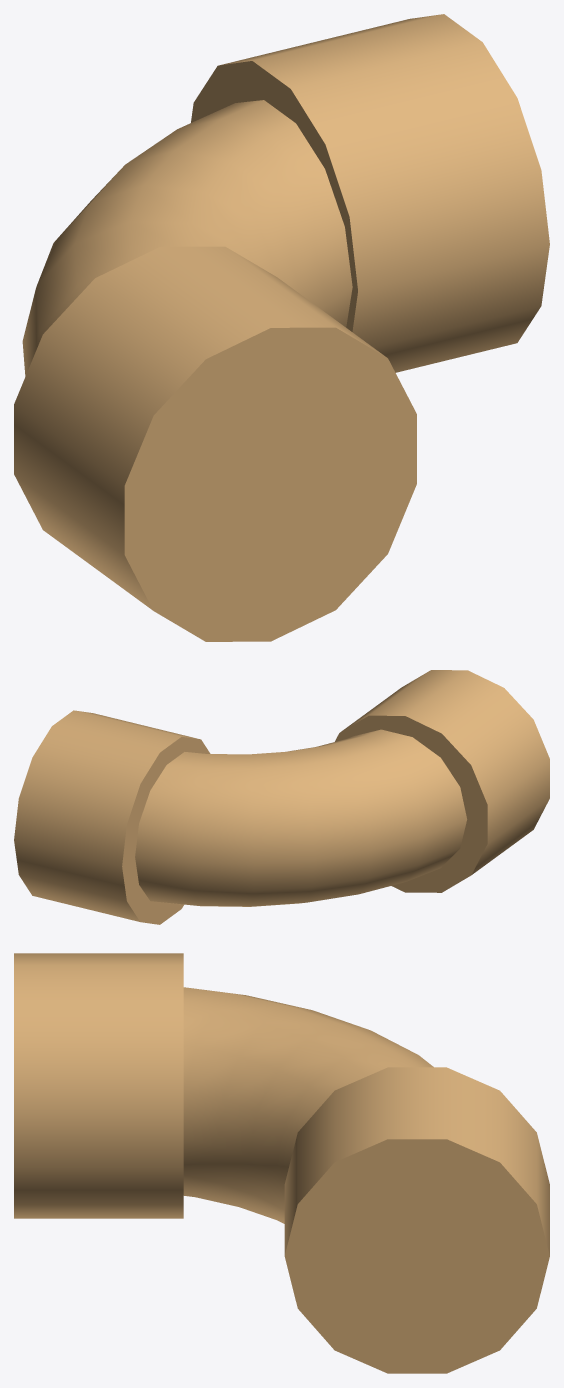
The model's file is services.pipe.elbow_35.glb.
3 renders of one model, top to bottom at view 1: azimuth 30°, elevation 25°; view 2: azimuth 150°, elevation 25°; view 3: azimuth 270°, elevation 25°, orthographic. The views are drawn at different scales.
Parts seen in each view (by area): view 1: main__copper; view 2: main__copper; view 3: main__copper.
Boxes of the visible parts, x1,y1,x2,y2 form: main__copper: (14, 14, 549, 641); main__copper: (14, 670, 549, 924); main__copper: (14, 953, 549, 1373).
Size of the model in its own units: 0.0878 by 0.0437 by 0.0884.
